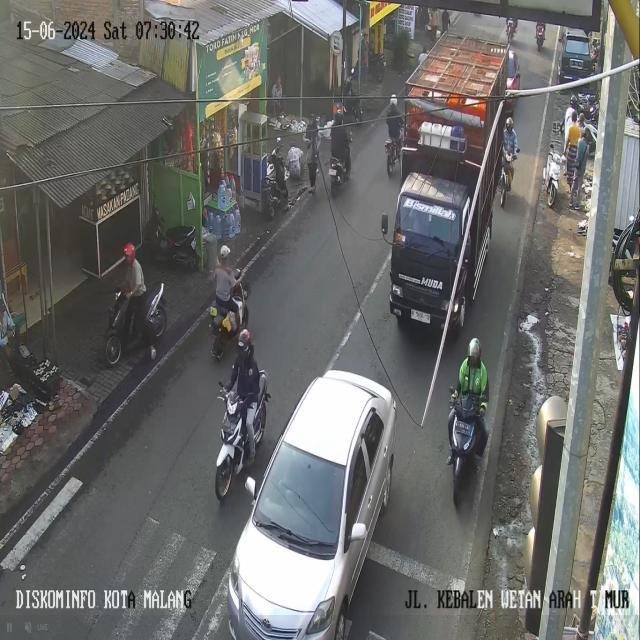Helmet: (238, 329, 251, 351), (468, 338, 480, 360), (123, 243, 135, 257), (333, 110, 343, 126), (220, 245, 230, 258), (505, 117, 513, 130), (570, 94, 577, 107), (390, 94, 396, 105), (588, 94, 595, 103)
Number Plate: (411, 309, 430, 323), (329, 169, 336, 175)
Rearview Mirror: (350, 523, 366, 541), (245, 477, 255, 499), (381, 213, 387, 234), (549, 143, 553, 150)
